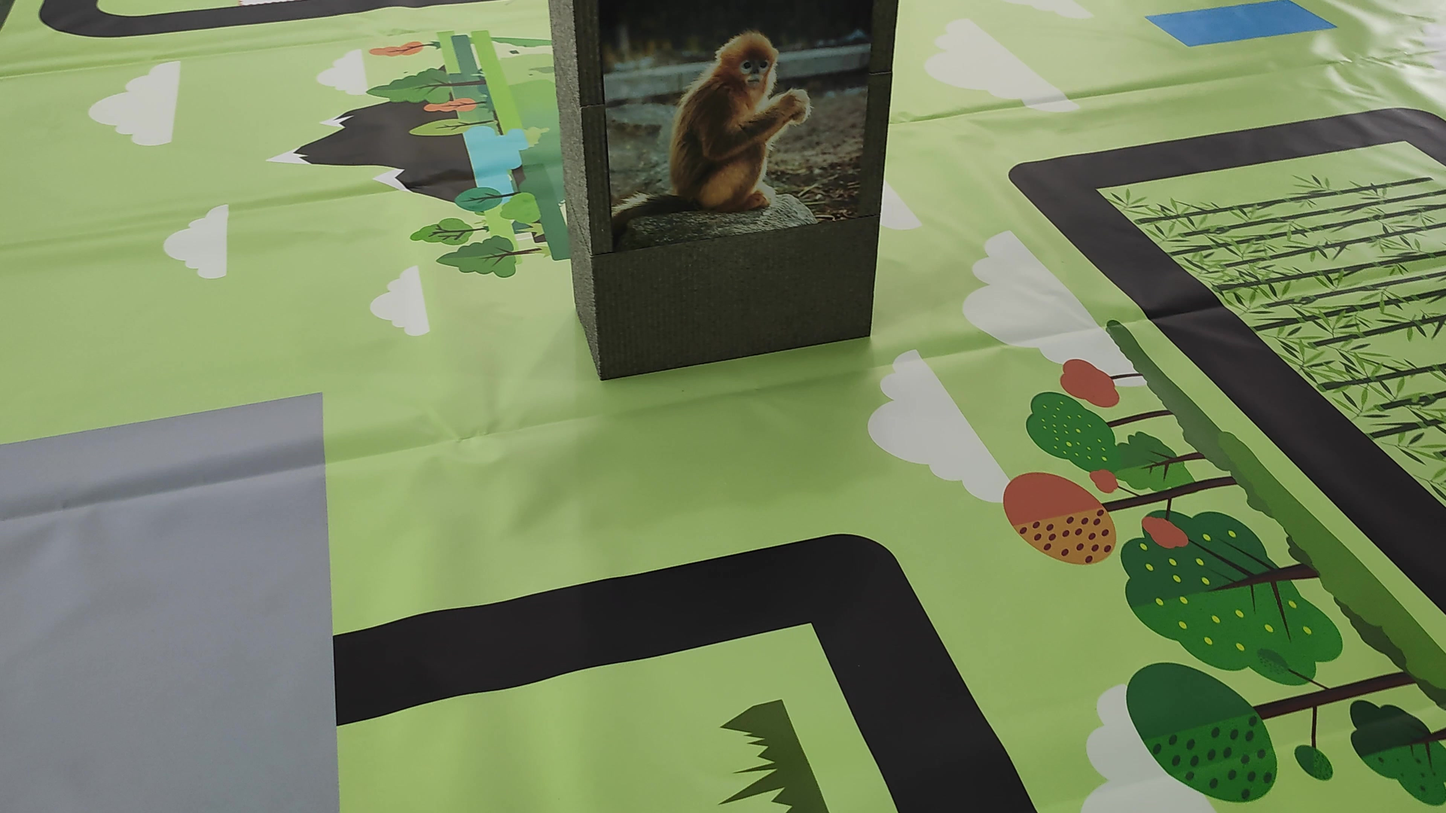monkey: (607, 20, 855, 255)
